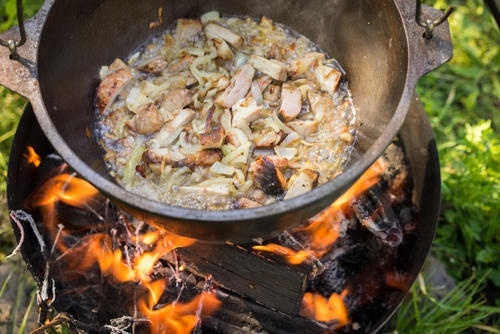fire: (102, 7, 360, 206), (23, 164, 216, 334), (300, 285, 353, 323)
